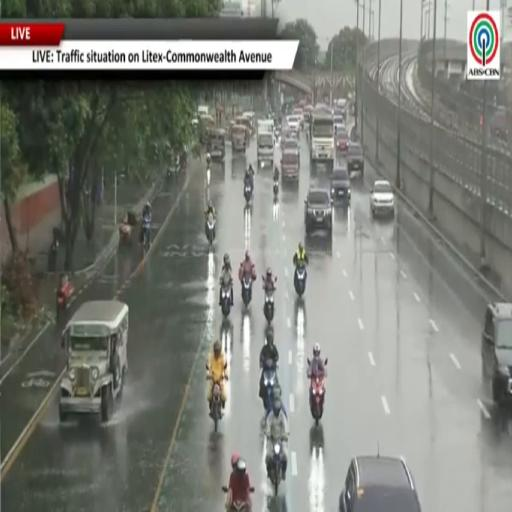car: (339, 455, 421, 511), (482, 302, 511, 405), (305, 188, 332, 234), (370, 180, 395, 217), (331, 165, 351, 201), (347, 142, 364, 177), (335, 128, 349, 152), (282, 137, 299, 155), (287, 116, 301, 132)
jeepney: (59, 300, 128, 422), (281, 150, 299, 181), (210, 128, 226, 159), (235, 116, 251, 147), (199, 116, 215, 145), (232, 124, 247, 152), (243, 111, 255, 134), (227, 121, 235, 140)
motorcycle: (269, 440, 282, 495), (310, 376, 324, 425), (56, 282, 73, 319), (264, 368, 276, 413), (220, 284, 232, 318), (294, 264, 306, 298), (242, 274, 253, 307), (264, 291, 274, 324), (206, 214, 215, 245), (142, 217, 150, 251), (229, 501, 250, 511), (244, 182, 252, 204), (143, 227, 149, 251), (273, 181, 278, 199), (207, 166, 211, 185)
truck: (309, 109, 335, 172), (257, 120, 274, 167)
